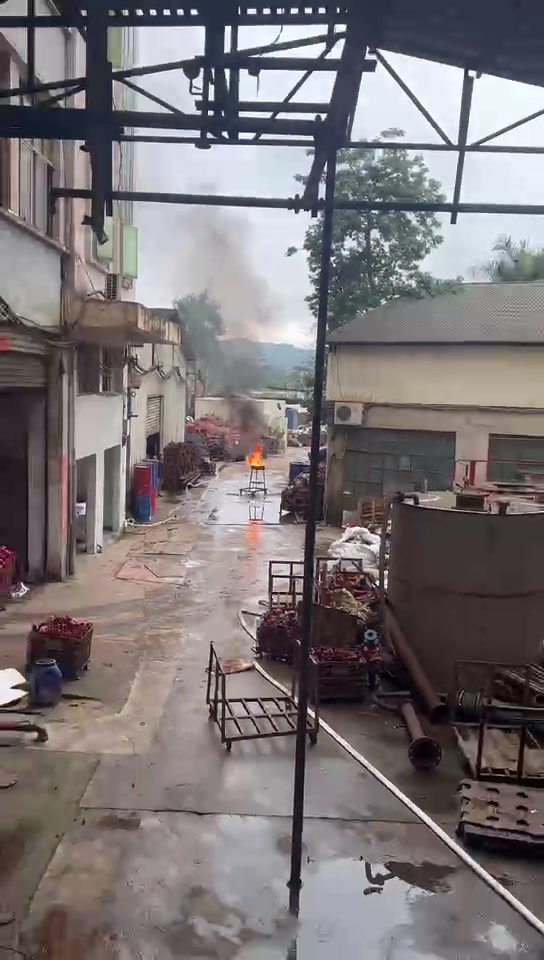fire: (246, 443, 263, 465)
